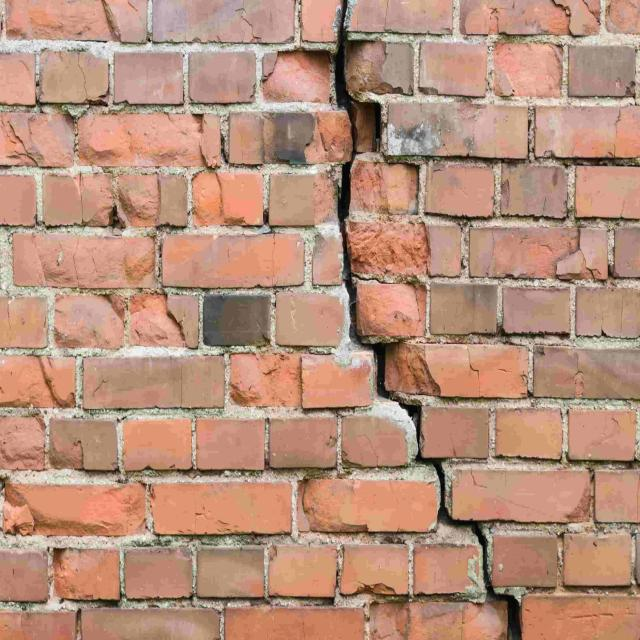Crack: (371, 344, 524, 640), (329, 0, 362, 350), (552, 226, 606, 280)
